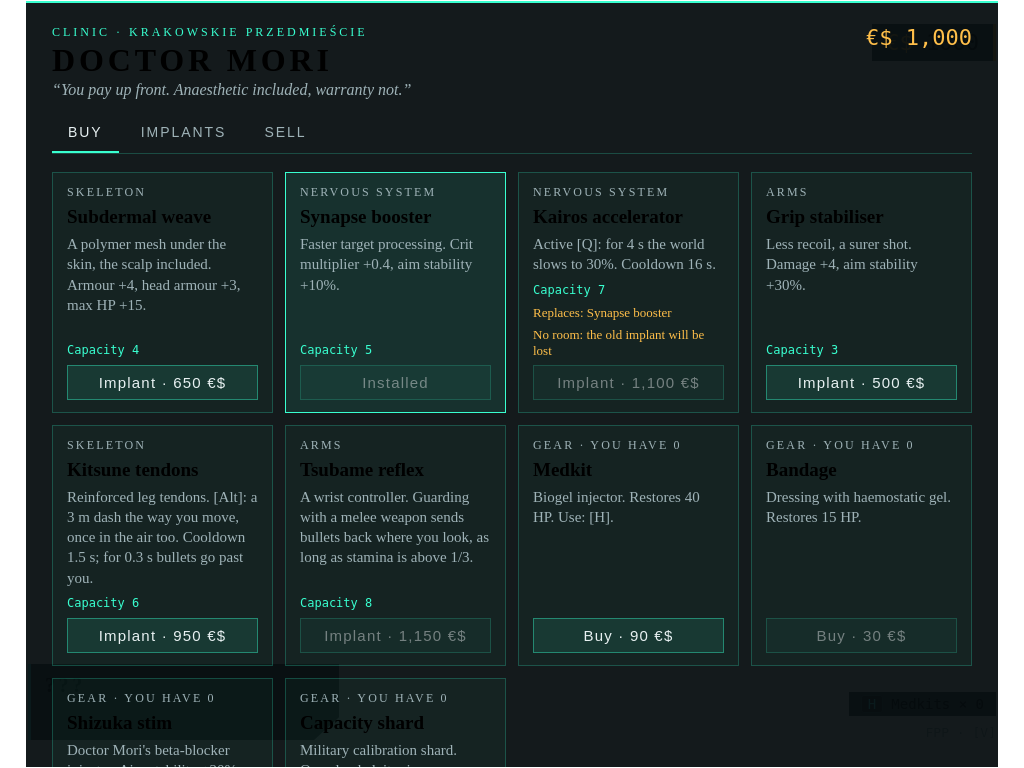
Test: clinic with implants from the bag (E11) › warns before a purchase when the old implant has nowhere to go; a full bag cannot take one out
Expected: the text "No room: the old implant will be lost" is shown, [533, 326, 724, 358]
Click the tab with test id "shop-tab-implants". click: click(184, 133)
box: [125, 113, 242, 153]
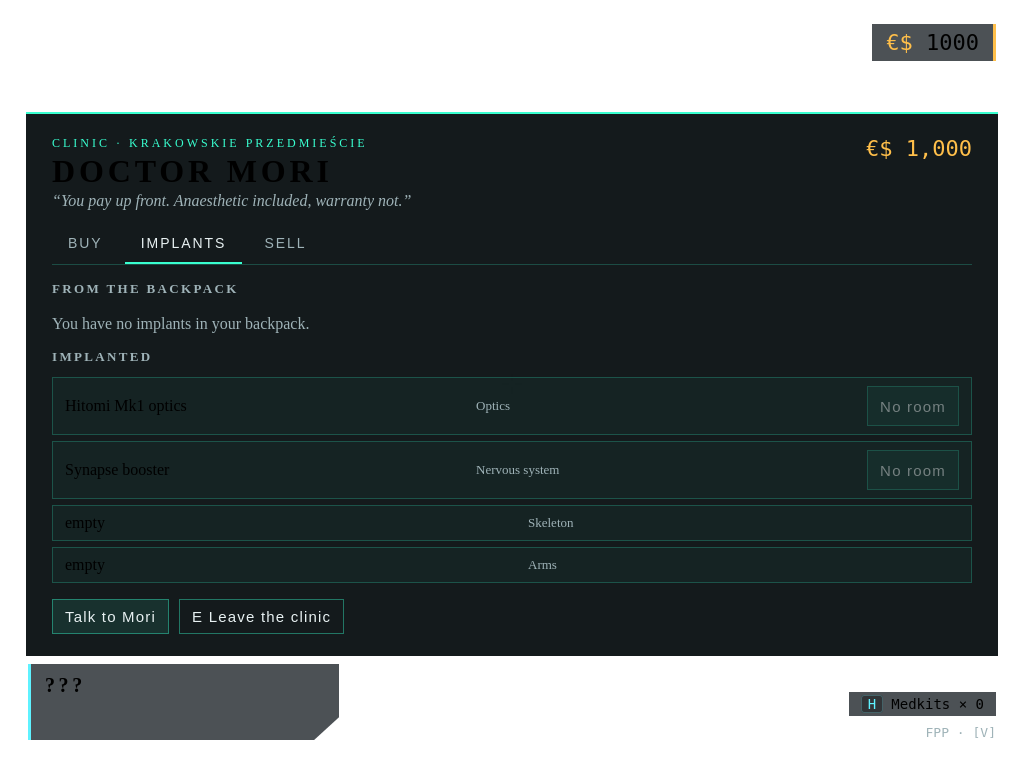
Now the text "You have no implants in your backpack." is shown, box [52, 315, 310, 332]
Now the button "No room" in the row of "Hitomi Mk1 optics" is disabled, box [867, 386, 959, 426]
